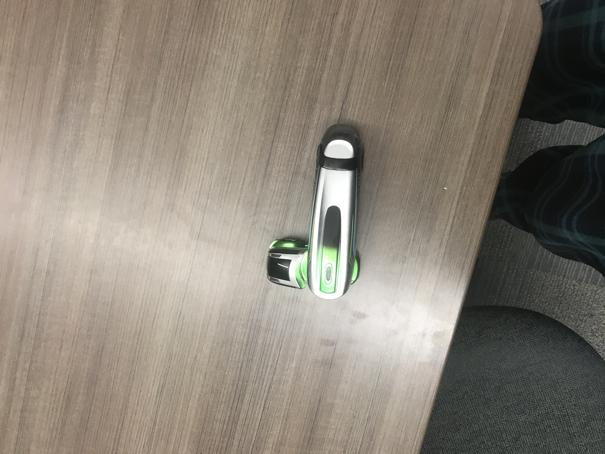Freewheel: (266, 123, 366, 301)
